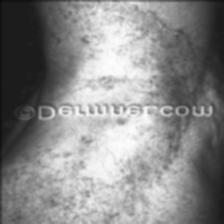Toxin: (80, 0, 194, 104), (82, 72, 124, 92)
